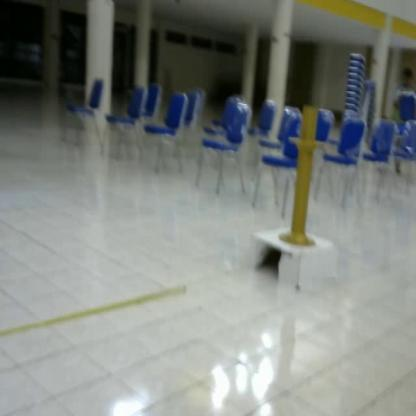pole: (278, 108, 332, 252)
